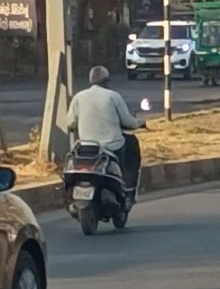BikeWithRider: (51, 63, 157, 246)
NoHelmet: (80, 63, 114, 89)
